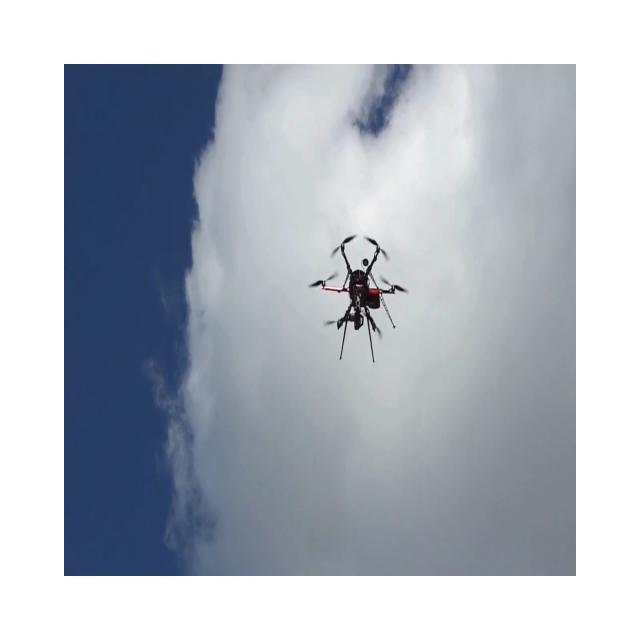drone: (308, 233, 408, 363)
